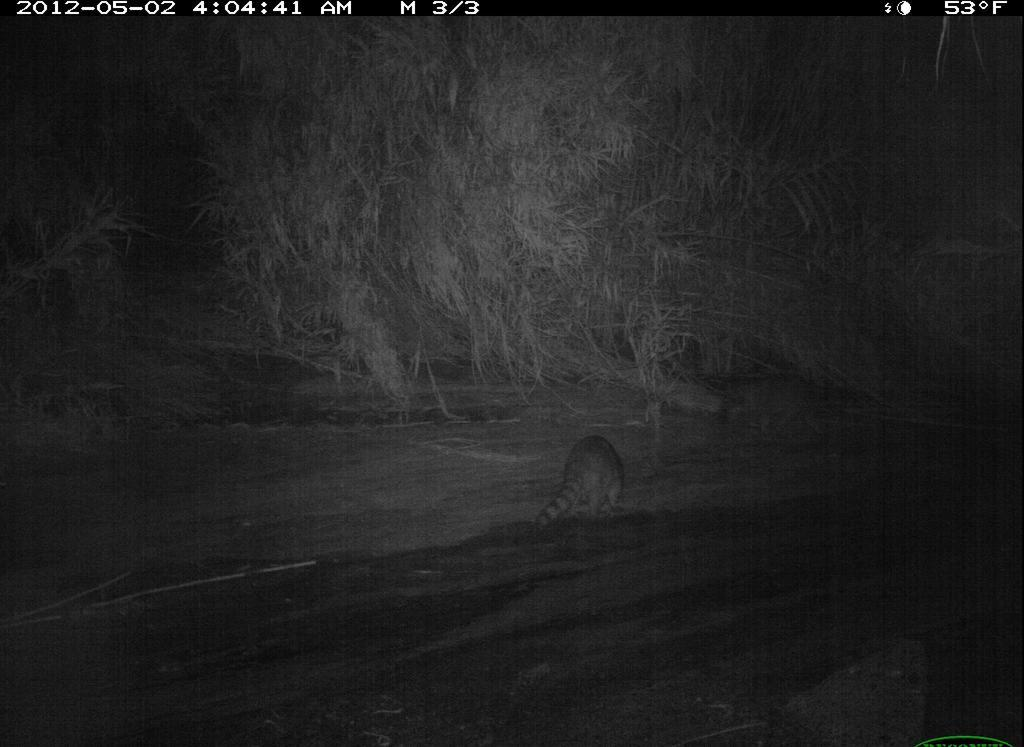raccoon: (515, 427, 670, 550)
